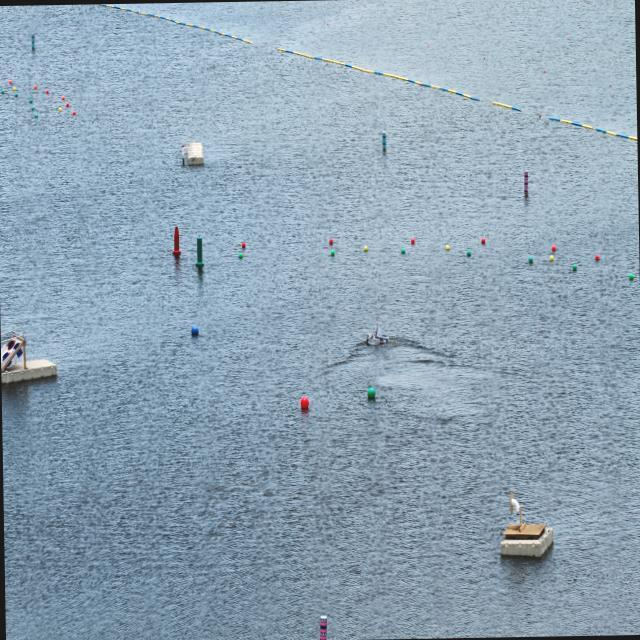buoy: (366, 386, 376, 400), (300, 396, 309, 410), (190, 325, 198, 337), (240, 241, 246, 248), (400, 247, 406, 254), (548, 254, 554, 261), (480, 236, 485, 244), (628, 272, 633, 280), (444, 244, 450, 250), (330, 249, 335, 256), (466, 249, 471, 256), (594, 254, 599, 260), (328, 238, 332, 245), (528, 256, 532, 263), (552, 244, 556, 251), (14, 92, 18, 98), (8, 78, 12, 84), (72, 110, 76, 116), (58, 106, 62, 112), (238, 252, 242, 258), (363, 244, 367, 250), (410, 237, 414, 243), (572, 264, 576, 270), (34, 113, 38, 118), (65, 102, 69, 107), (1, 88, 4, 94), (46, 88, 49, 94), (30, 106, 34, 110), (29, 98, 32, 103), (61, 95, 64, 100), (12, 86, 15, 90), (34, 84, 36, 89)
